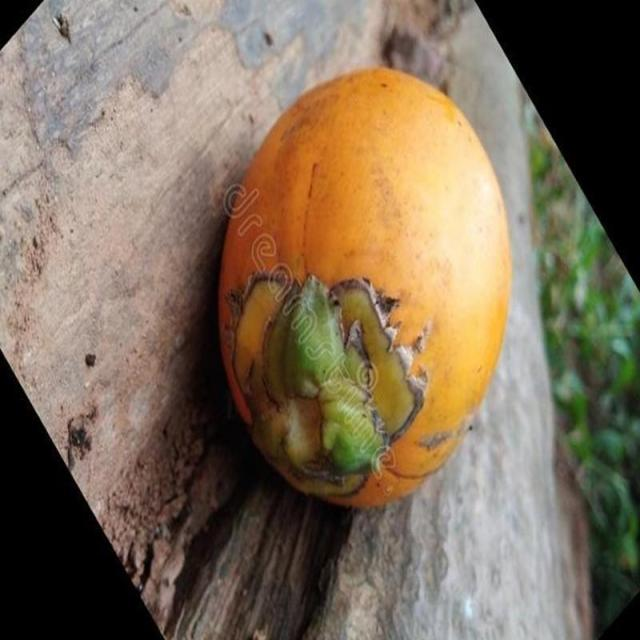good: (215, 67, 513, 513)
